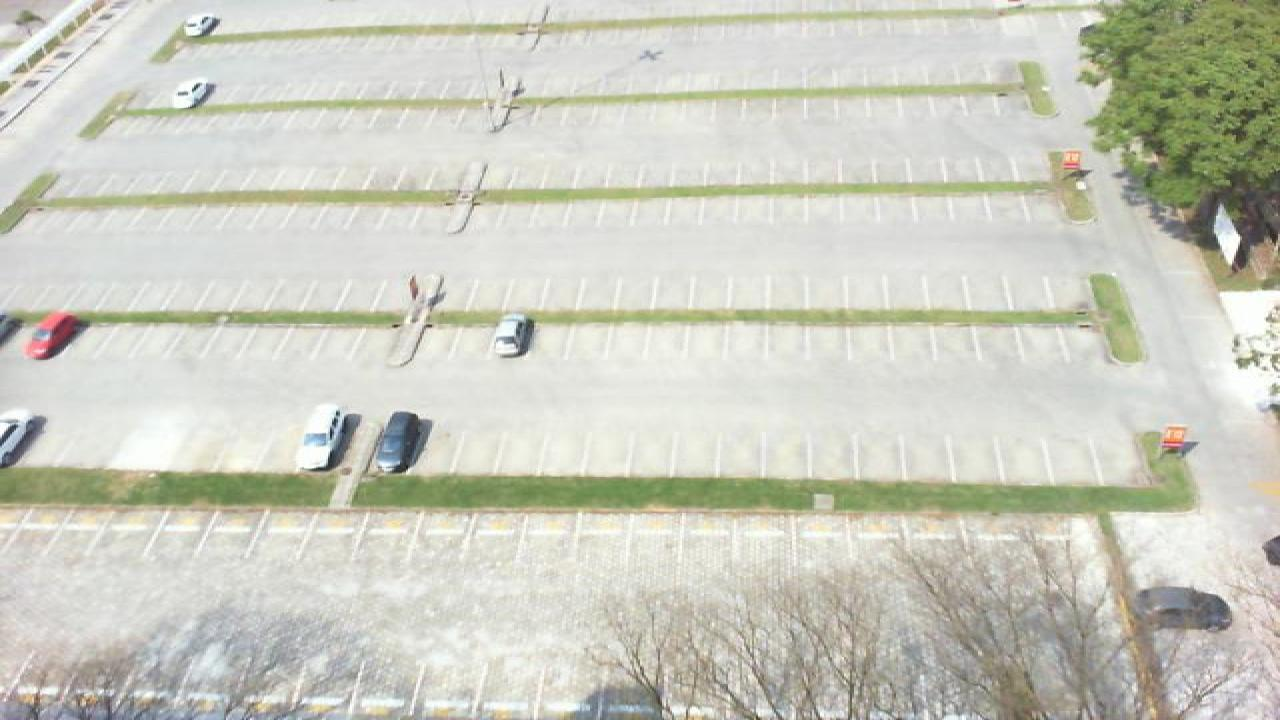Car: (1136, 586, 1232, 632), (294, 403, 350, 471), (372, 409, 426, 476), (24, 312, 80, 360), (0, 407, 36, 468), (490, 315, 532, 359), (172, 80, 212, 110), (184, 14, 220, 37)
